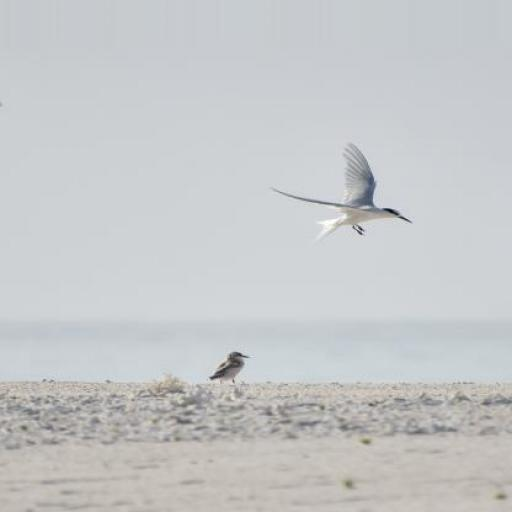bird: (267, 142, 414, 243), (206, 350, 252, 385)
